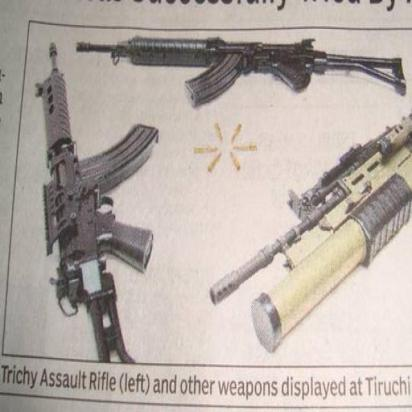Gun: (33, 39, 159, 358), (77, 34, 410, 104)
